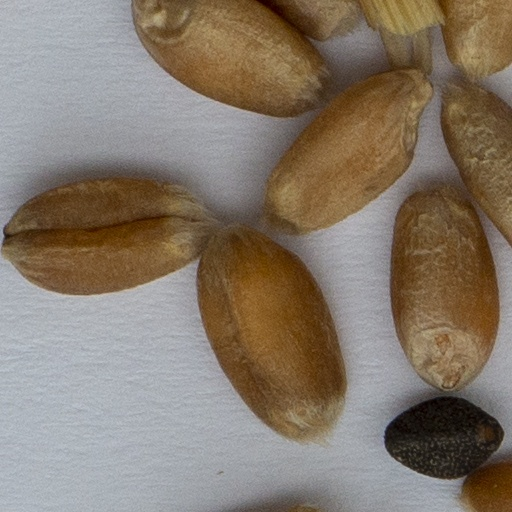Peel-poly: (360, 0, 437, 67)
